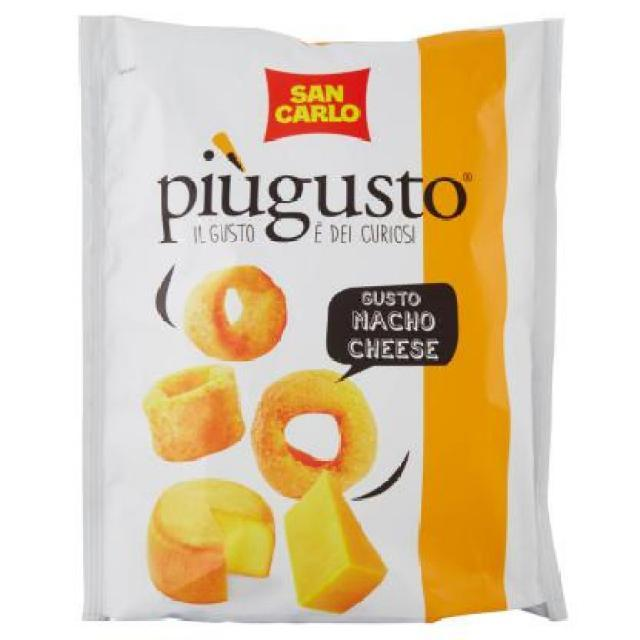Chips: (69, 13, 583, 635)
